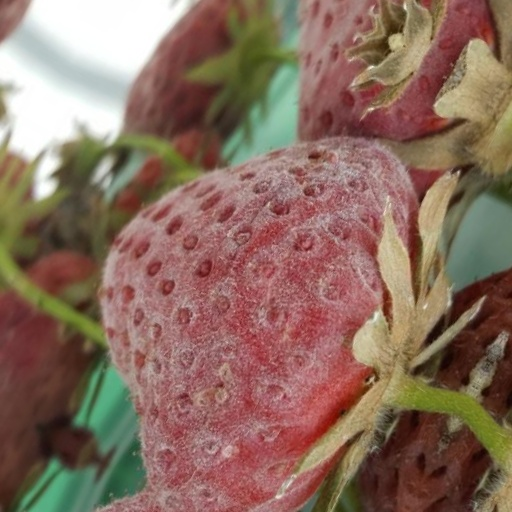Powdery Mildew Fruit: (65, 0, 390, 413), (82, 368, 351, 511), (0, 40, 65, 414)
